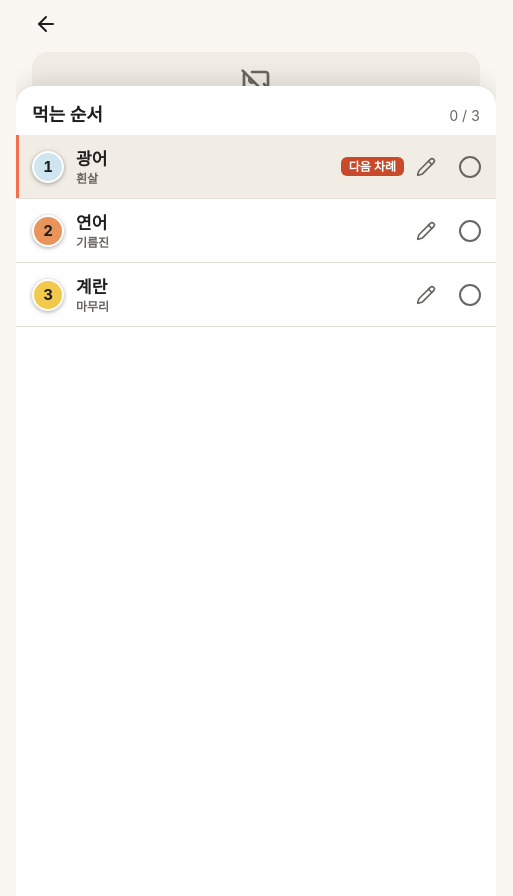
Scenario: ResultPage › F5-3 체크 저장이 실패하면 원래 값으로 되돌리고 토스트를 띄운다
Click the button named "1번 광어 먹음 표시" at (470, 167), box [448,145,492,189]
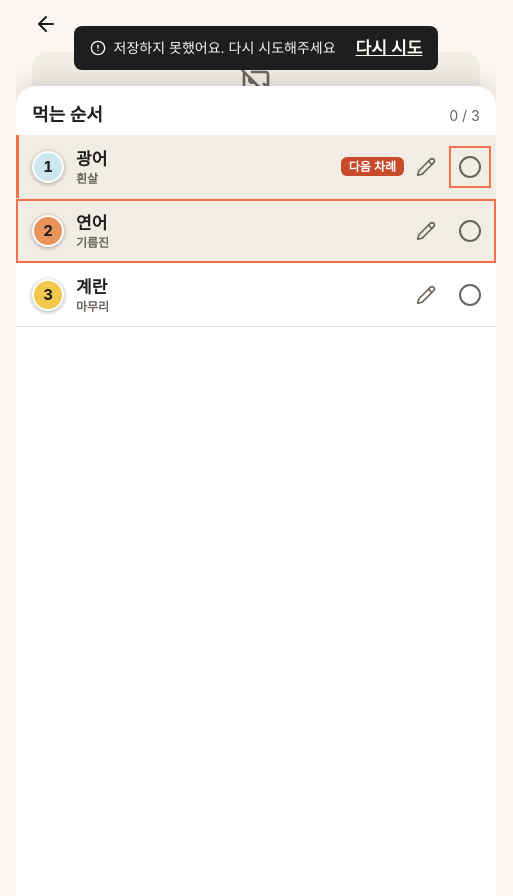
Result: the text "저장하지 못했어요. 다시 시도해주세요" is shown at [114,38,336,58]
